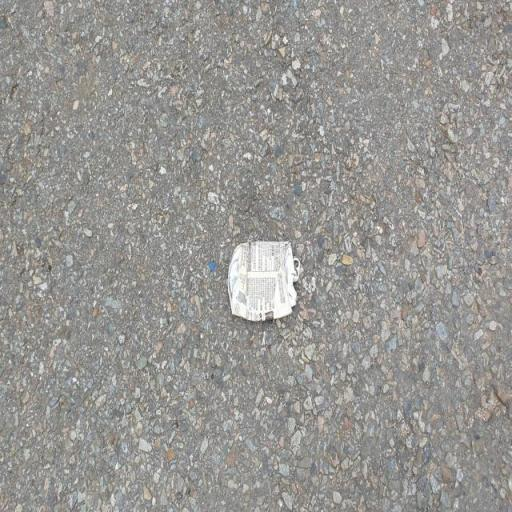metal: (216, 229, 312, 345)
